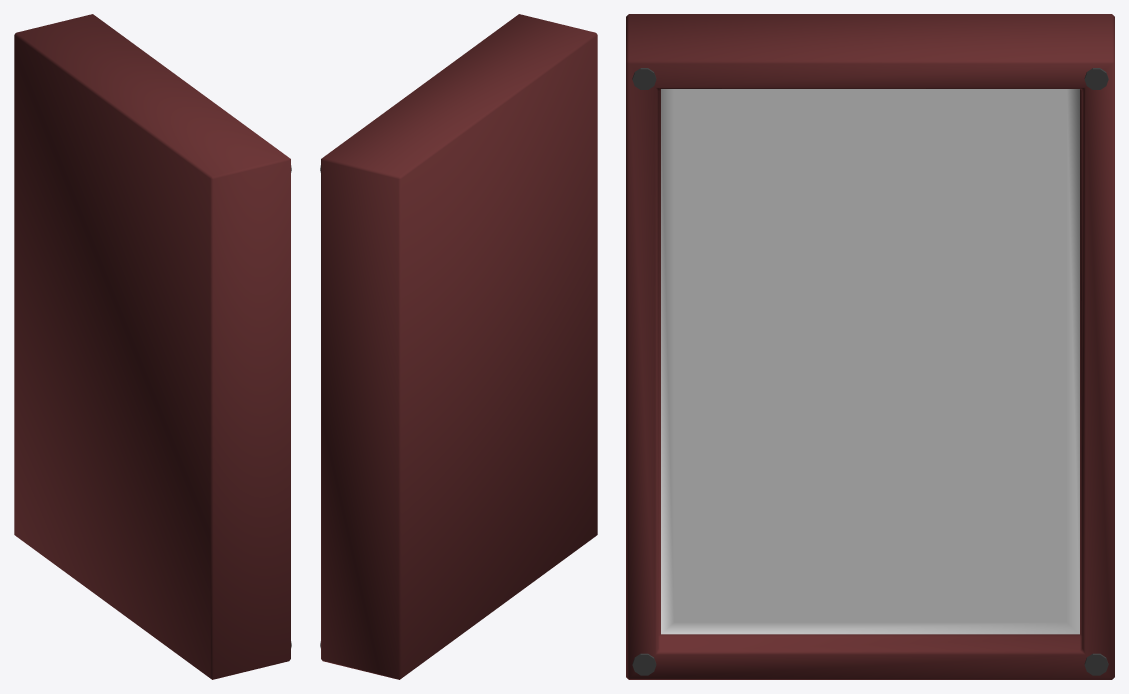
File: frame_fix.fbx
3 renders of one model, left to right at view 1: azimuth 30°, elevation 25°; view 2: azimuth 150°, elevation 25°; view 3: azimuth 270°, elevation 25°, orthographic. The views are drawn at different scales.
Parts seen in each view (by area): view 1: Frame; view 2: Frame; view 3: Frame.
Part boxes in pixels (bbox=[...]): Frame: bbox=[14, 14, 291, 679]; Frame: bbox=[320, 14, 597, 679]; Frame: bbox=[626, 14, 1114, 679].
Bounding box in the file's own units: 24.62 × 143 × 102.
